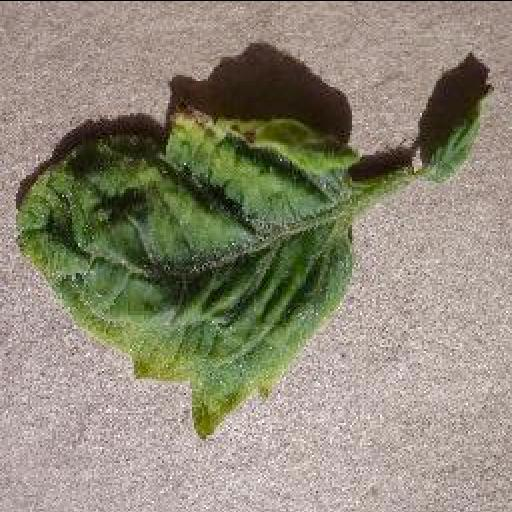disease_tomato: (15, 109, 361, 437)
